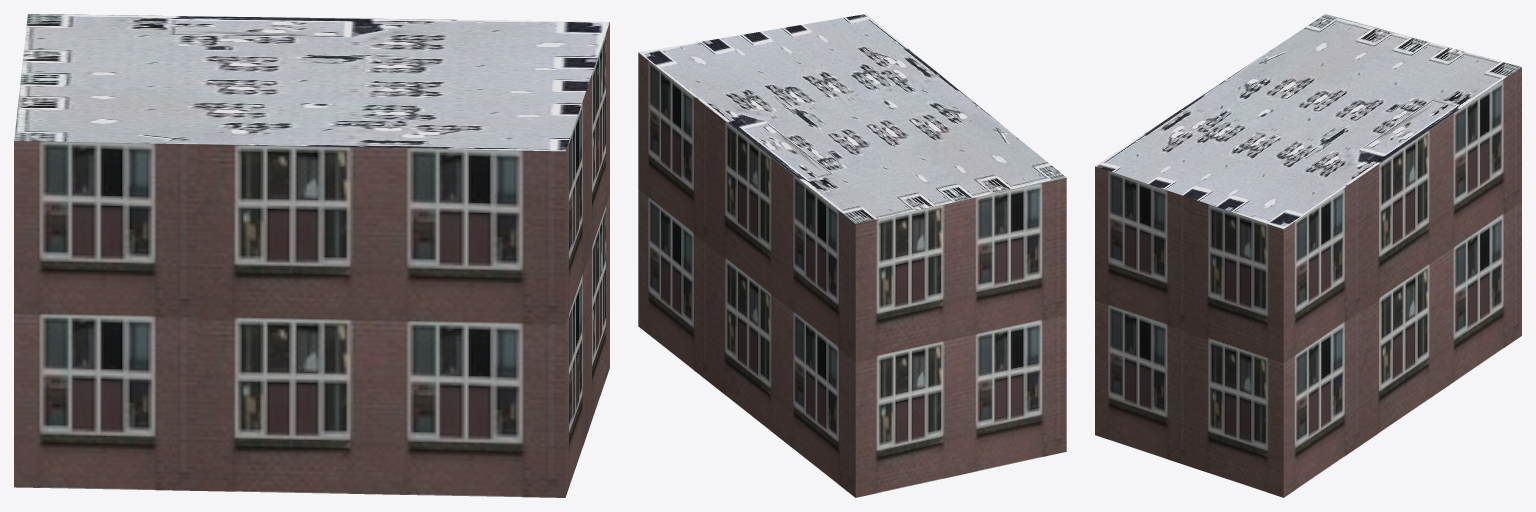
The model's file is ResTex__2769.fbx.
3 renders of one model, left to right at view 1: azimuth 30°, elevation 25°; view 2: azimuth 150°, elevation 25°; view 3: azimuth 270°, elevation 25°, orthographic. The views are drawn at different scales.
Parts seen in each view (by area): view 1: CityEngineMaterial_12_m, CityEngineMaterial_4_m; view 2: CityEngineMaterial_12_m, CityEngineMaterial_4_m; view 3: CityEngineMaterial_12_m, CityEngineMaterial_4_m.
Boxes of the visible parts, box(x1,y1,x2,y2) form: CityEngineMaterial_12_m: box(14, 22, 609, 497); CityEngineMaterial_4_m: box(14, 14, 609, 151); CityEngineMaterial_12_m: box(638, 52, 1066, 497); CityEngineMaterial_4_m: box(638, 14, 1066, 223); CityEngineMaterial_12_m: box(1095, 67, 1521, 497); CityEngineMaterial_4_m: box(1095, 14, 1521, 229).
Bounding box in the file's own units: 10.31 × 6 × 8.64.
2 materials, 2 textured.
